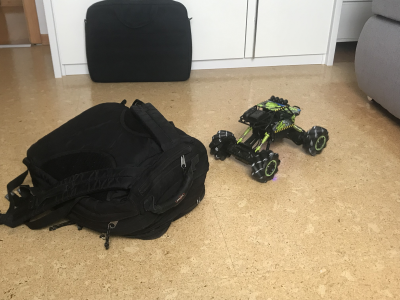remote control car: (208, 92, 331, 184)
